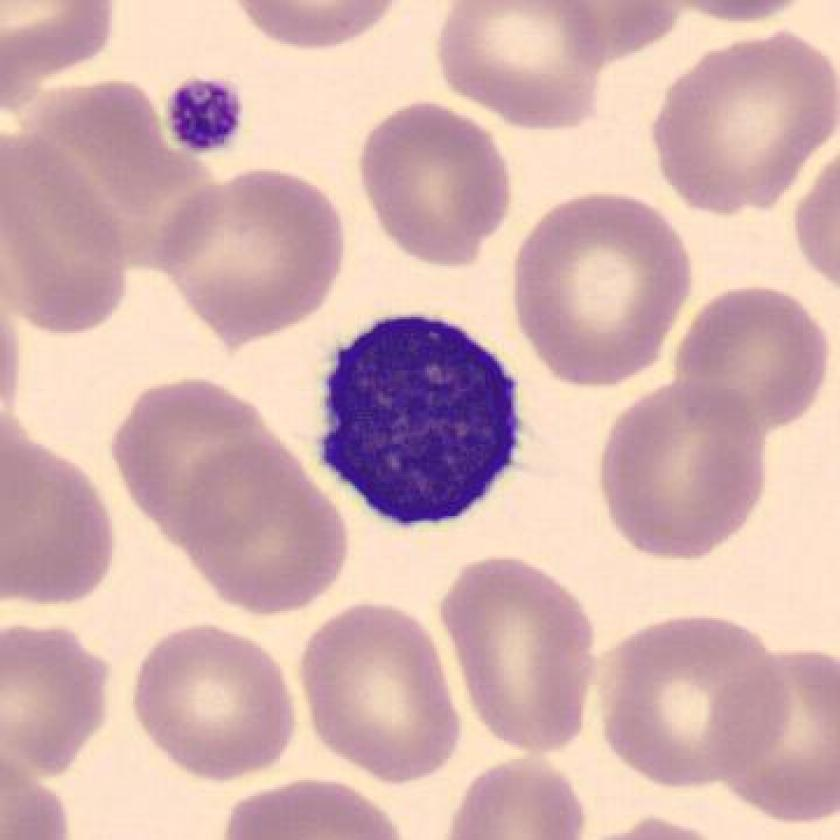lymphocyte: (293, 293, 542, 545)
platelets: (165, 77, 246, 158)
